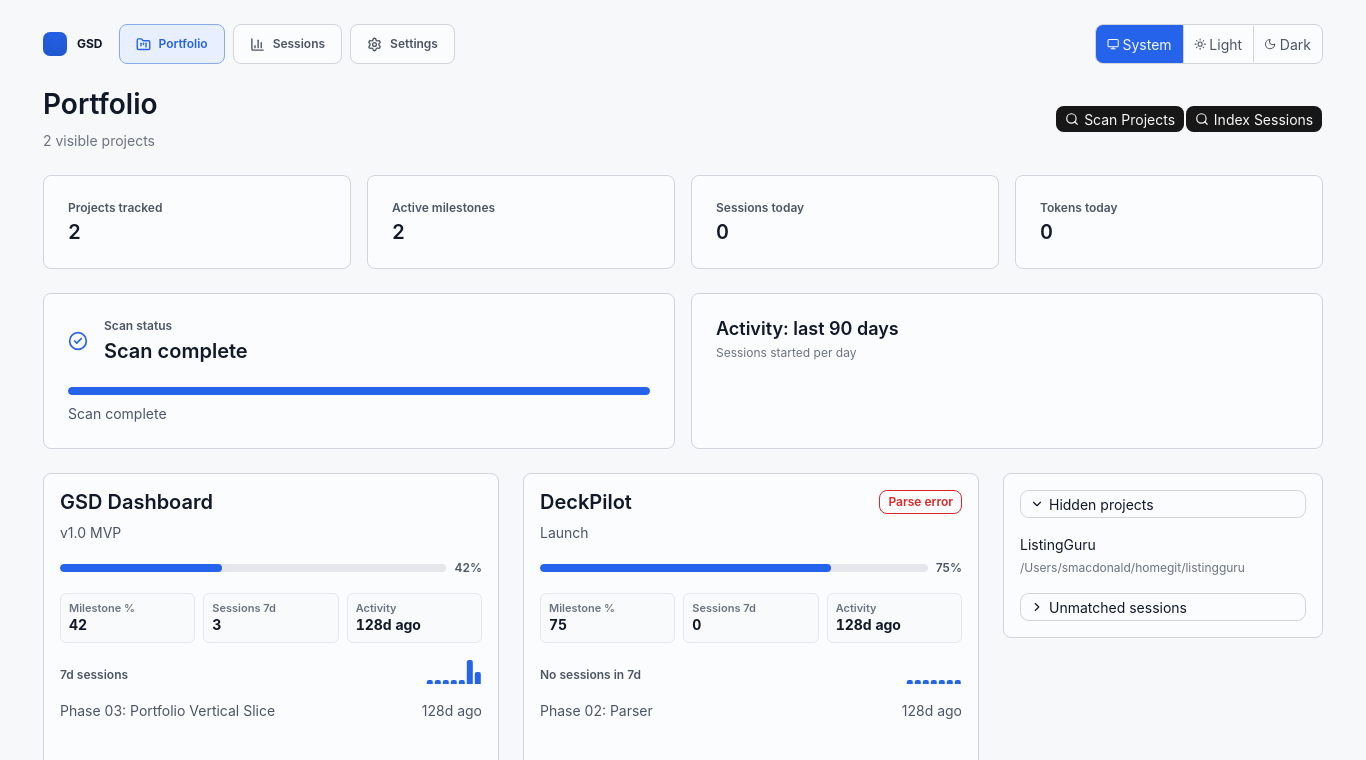
portfolio vertical slice › renders right rail placeholders
Expected: the button "Hidden projects" is shown, [1020,490,1306,518]
Expected: the text "ListingGuru" is shown, [1020,536,1096,553]
Click the button "Unmatched sessions". click: (1163, 607)
box: [1020,593,1306,621]
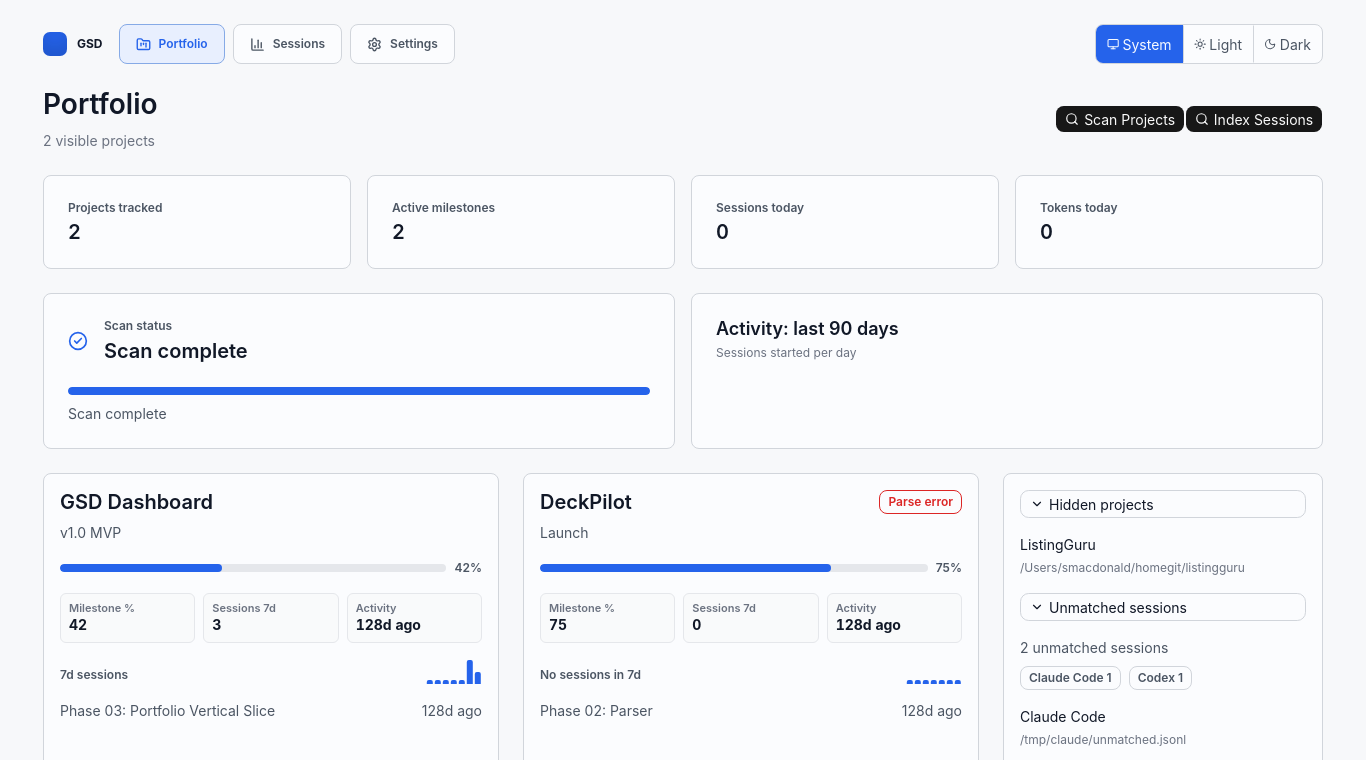
Result: the text "2 unmatched sessions" is shown at [1020,639,1168,656]
Result: the text "Claude Code" is shown at [1020,708,1106,725]
Result: the text "/tmp/claude/unmatched.jsonl" is shown at [1020,732,1186,747]
